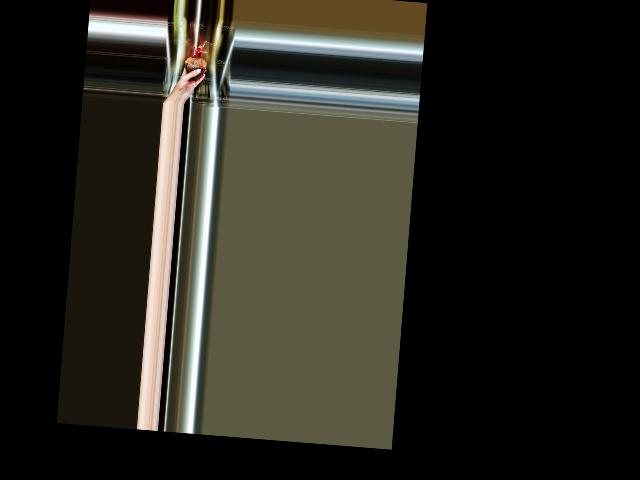beet: (184, 39, 209, 81)
